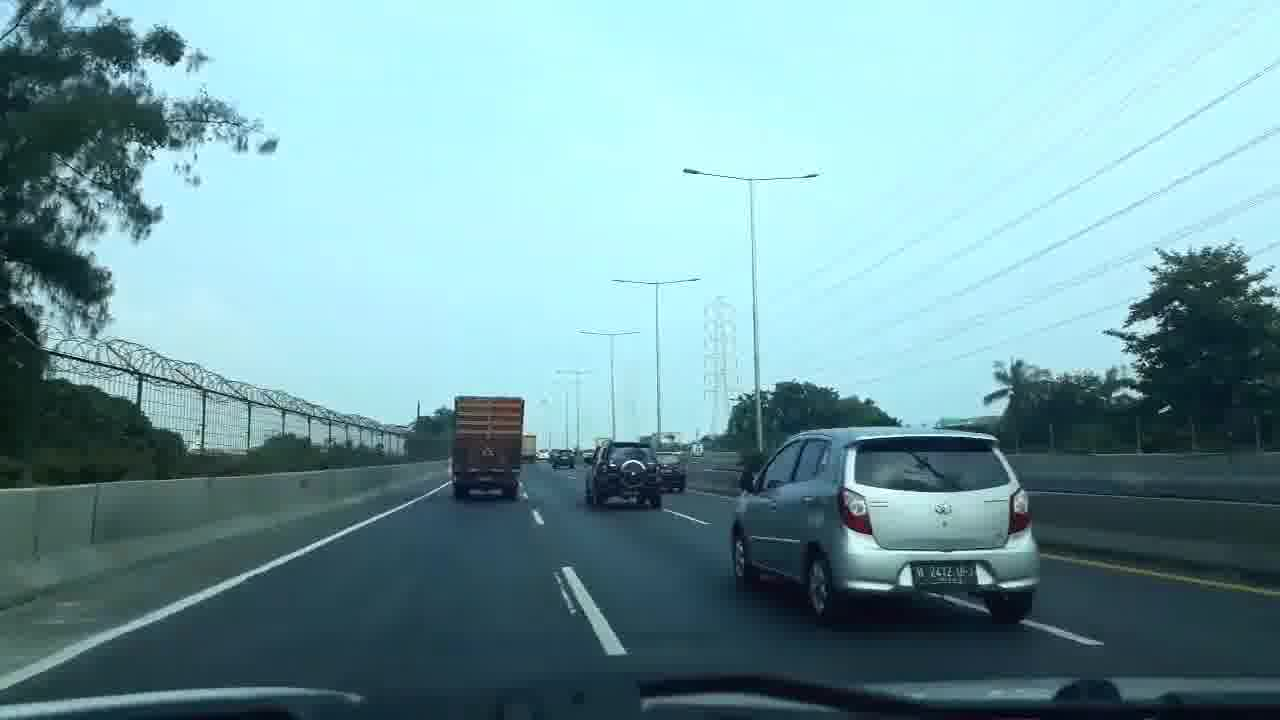plate_positive: (911, 562, 978, 587)
